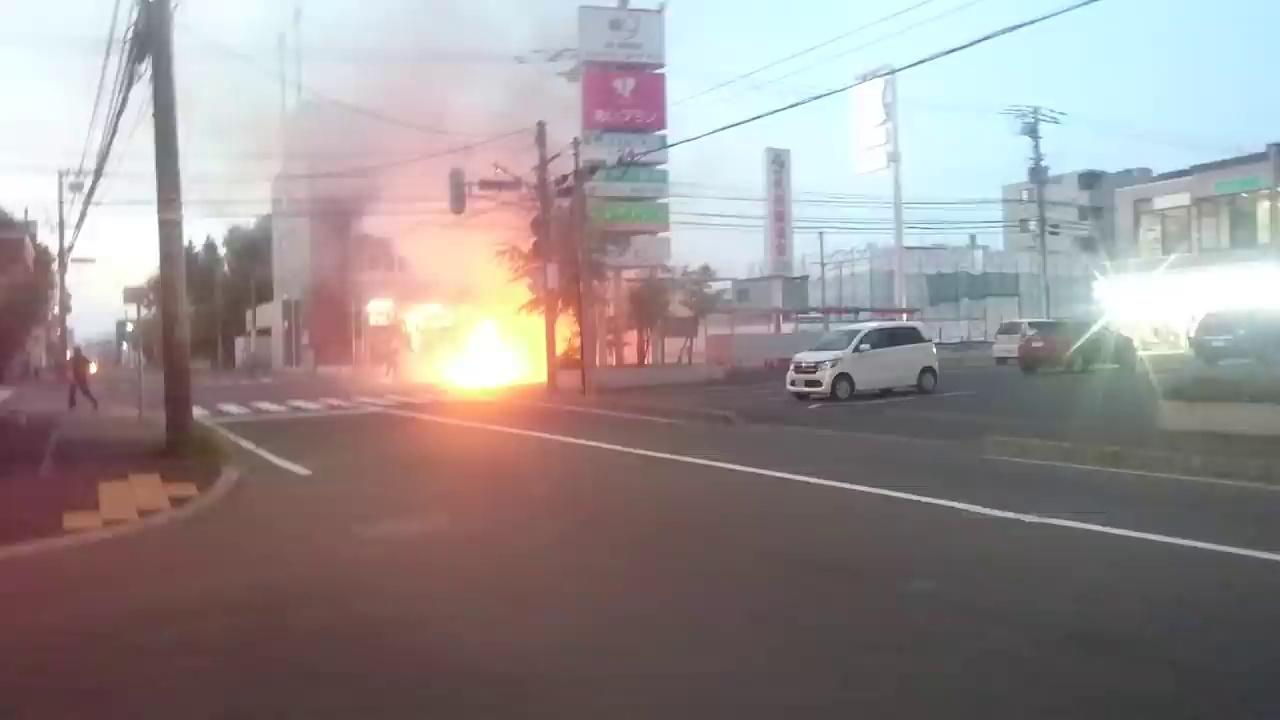fire: (427, 310, 549, 393)
